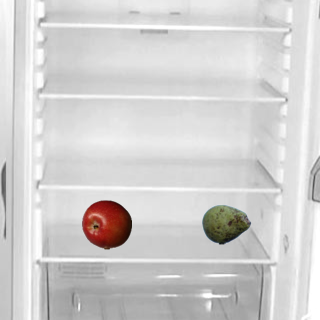Apple Braeburn: (81, 199, 131, 249)
Pear Stone: (201, 199, 251, 249)
